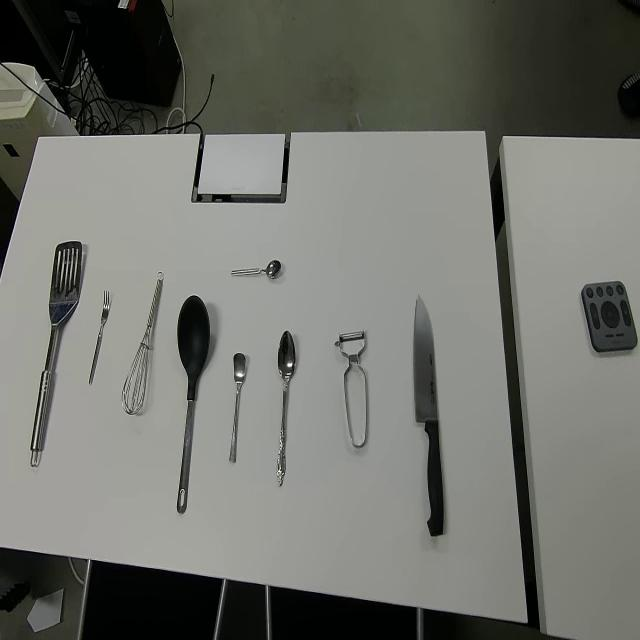Desert-Spoon: (276, 326, 297, 486)
Dinner-Fork: (88, 288, 111, 389)
Kitchen-Knife: (412, 292, 444, 538)
Peeler: (333, 329, 369, 449)
Serving-Spoon: (30, 238, 84, 472), (176, 294, 211, 518)
Tea-Spoon: (227, 349, 245, 462), (228, 253, 281, 277)
Whisk: (121, 268, 164, 416)
